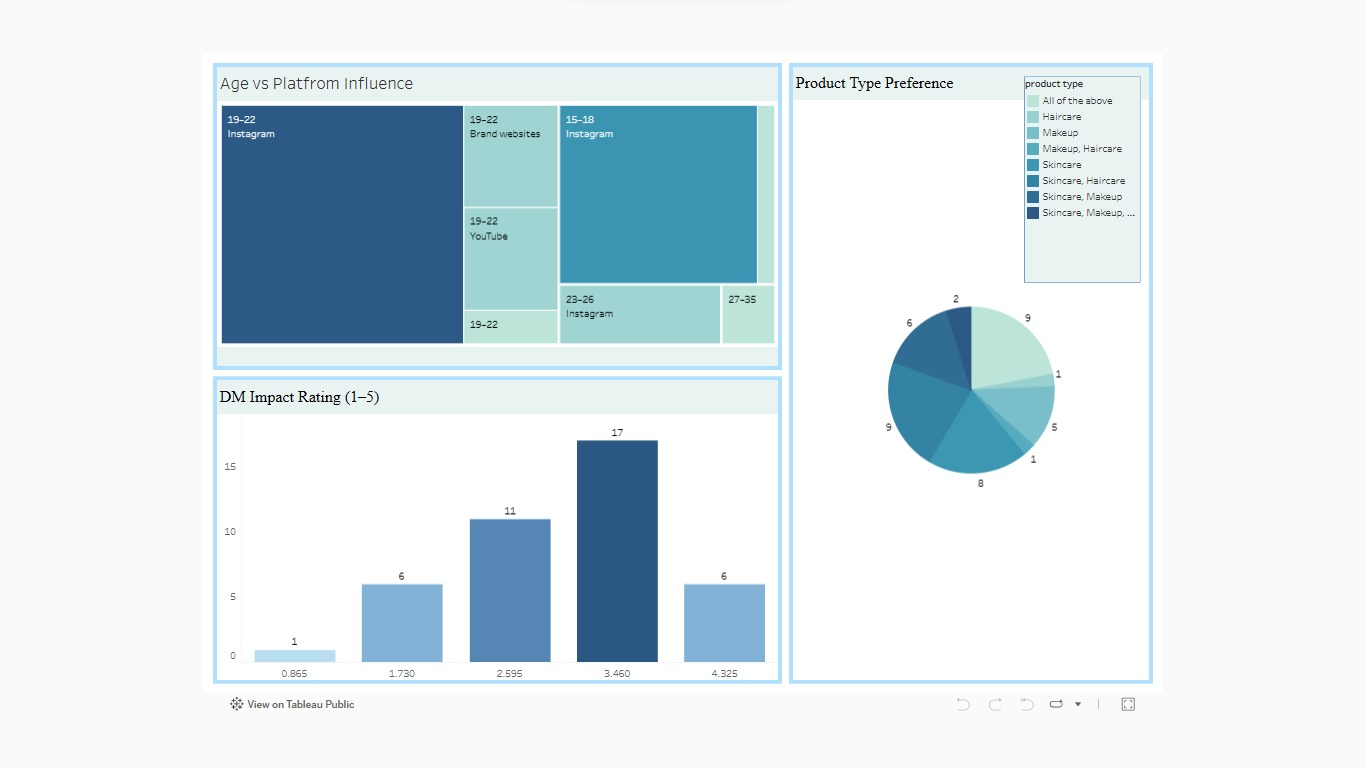

What the dashboard file says about the page in this screenshot:
{"tool":"powerbi","page":{"name":"Page 1","canvas":[1280,720],"ordinal":0},"visuals":[{"type":"clusteredBarChart","fields":{"Category":["Form responses 1.Which digital platform influences you the MOST while buying cosmetics?  "],"Y":["Form responses 1.Total Responses"]},"box":[45.4,29.3,557.6,307.3],"z":0},{"type":"pieChart","fields":{"Category":["Form responses 1.What type of digital content impacts your buying decision the most?"],"Y":["Form responses 1.Total Responses"]},"box":[690.7,29.3,554.6,307.3],"z":1000},{"type":"columnChart","fields":{"Category":["Form responses 1.Do you trust influencer recommendations for cosmetics?  "],"Y":["Form responses 1.Total Responses"]},"box":[690.7,371.7,554.6,317.6],"z":2000},{"type":"treemap","fields":{"Group":["Form responses 1.Age Group "],"Details":["Form responses 1.Which digital platform influences you the MOST while buying cosmetics?  "],"Values":["Form responses 1.Total Responses"]},"box":[43.9,371.7,557.6,317.6],"z":3000}]}

Visuals, with their boxes on the page's 1280x720 design canvas (x1, y1, x2, y2). These are canvas units, not pixel positions in the 1366x768 screenshot, which may show the page scaled, cropped or inside an application window:
clusteredBarChart - Form responses 1.Which digital platform influences you the MOST while buying cosmetics?   x Form responses 1.Total Responses: {"left": 45, "top": 29, "right": 603, "bottom": 337}
pieChart - Form responses 1.What type of digital content impacts your buying decision the most? x Form responses 1.Total Responses: {"left": 691, "top": 29, "right": 1245, "bottom": 337}
columnChart - Form responses 1.Do you trust influencer recommendations for cosmetics?   x Form responses 1.Total Responses: {"left": 691, "top": 372, "right": 1245, "bottom": 689}
treemap - Form responses 1.Age Group  x Form responses 1.Which digital platform influences you the MOST while buying cosmetics?  : {"left": 44, "top": 372, "right": 602, "bottom": 689}
